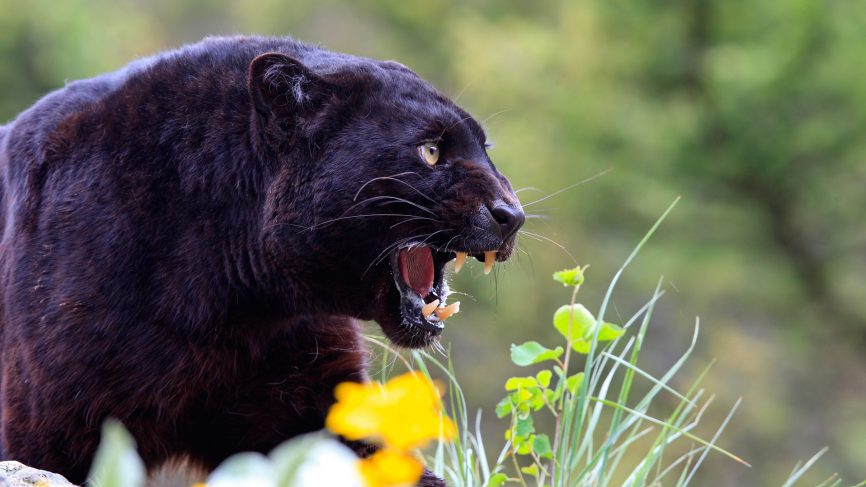panther: (1, 35, 525, 465)
